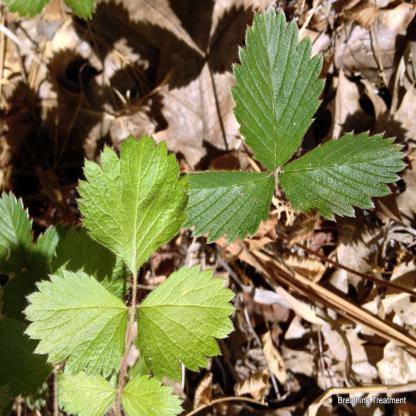Strawberry leaf: (82, 127, 192, 272), (232, 3, 326, 172), (130, 254, 232, 382), (283, 126, 408, 228), (22, 267, 134, 373), (179, 172, 278, 242)
